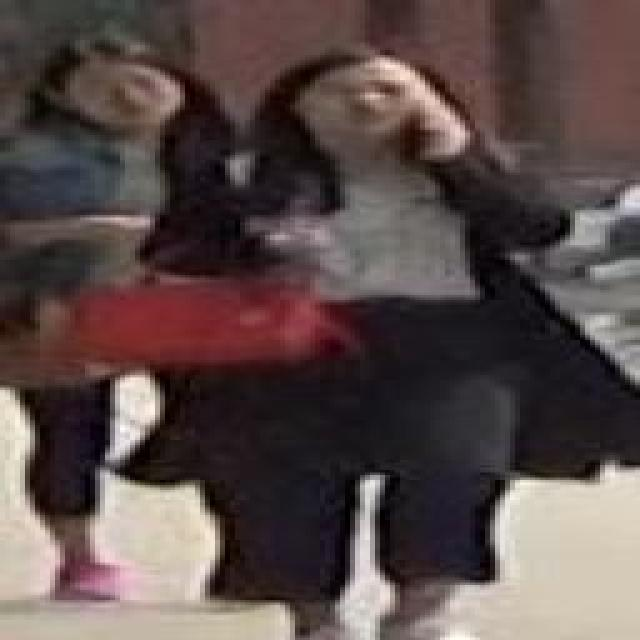adult: (140, 50, 575, 640), (0, 34, 242, 587)
